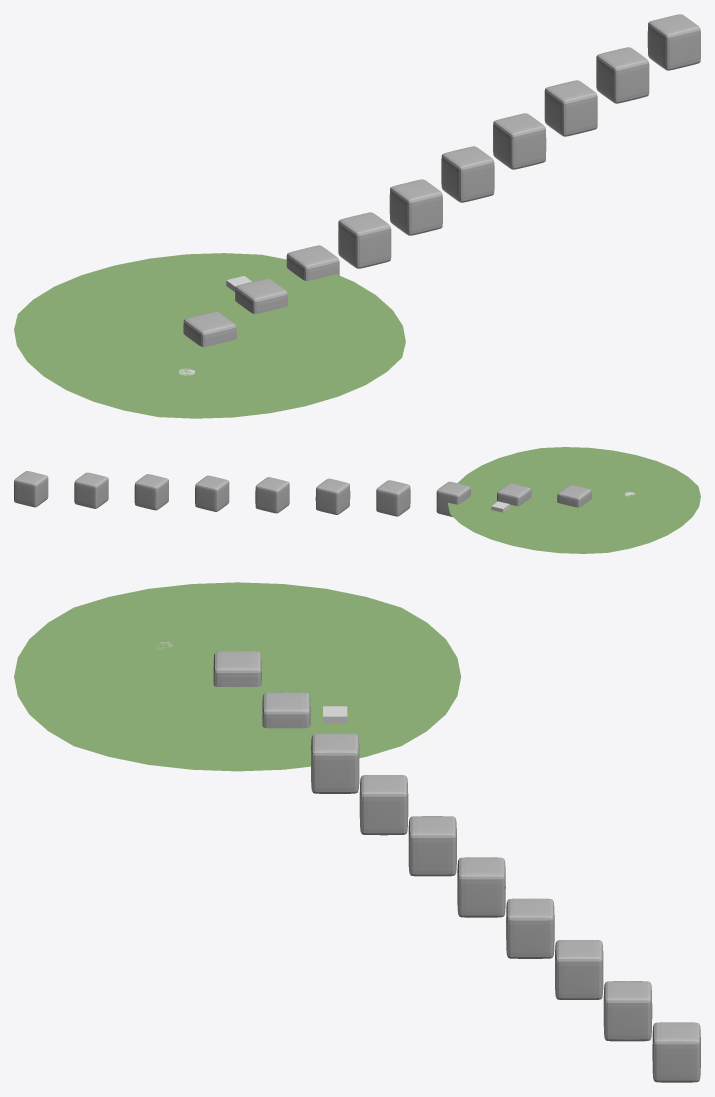
The picture shows the model from 3 angles, top to bottom: view 1: azimuth 30°, elevation 25°; view 2: azimuth 150°, elevation 25°; view 3: azimuth 270°, elevation 25°; orthographic projection. The views are drawn at different scales.
Parts seen in each view (by area): view 1: Terrain, Building_7, Building_8, Building_5, Building_3, Building_4, Building_9, Building_6, Building_2, Building_0, Building_1; view 2: Terrain, Building_3, Building_5, Building_7, Building_8, Building_6, Building_9, Building_4, Building_2, Building_0, Building_1; view 3: Terrain, Building_5, Building_8, Building_6, Building_9, Building_4, Building_2, Building_3, Building_7, Building_1, Building_0.
Part boxes in pixels (left/top/right/bottom): Terrain: left=14, top=253, right=405, bottom=418; Building_7: left=544, top=80, right=597, bottom=136; Building_8: left=596, top=47, right=649, bottom=103; Building_5: left=441, top=146, right=494, bottom=202; Building_3: left=338, top=212, right=391, bottom=268; Building_4: left=389, top=179, right=442, bottom=235; Building_9: left=647, top=14, right=700, bottom=70; Building_6: left=493, top=113, right=546, bottom=169; Building_2: left=286, top=245, right=339, bottom=280; Building_0: left=183, top=311, right=236, bottom=346; Building_1: left=235, top=278, right=287, bottom=313; Terrain: left=448, top=447, right=700, bottom=553; Building_3: left=376, top=480, right=410, bottom=516; Building_5: left=255, top=477, right=289, bottom=513; Building_7: left=134, top=474, right=168, bottom=510; Building_8: left=74, top=472, right=108, bottom=508; Building_6: left=195, top=475, right=229, bottom=511; Building_9: left=14, top=471, right=48, bottom=507; Building_4: left=315, top=478, right=350, bottom=514; Building_2: left=436, top=481, right=470, bottom=516; Building_0: left=557, top=484, right=591, bottom=507; Building_1: left=497, top=483, right=531, bottom=506; Terrain: left=14, top=582, right=460, bottom=771; Building_5: left=457, top=857, right=505, bottom=917; Building_8: left=603, top=981, right=652, bottom=1041; Building_6: left=506, top=898, right=554, bottom=958; Building_9: left=652, top=1022, right=700, bottom=1082; Building_4: left=408, top=816, right=456, bottom=876; Building_2: left=311, top=733, right=359, bottom=793; Building_3: left=359, top=775, right=408, bottom=835; Building_7: left=555, top=940, right=603, bottom=999; Building_1: left=262, top=692, right=310, bottom=728; Building_0: left=213, top=651, right=261, bottom=686.
Size of the model in its own units: 231 by 9.95 by 141.
